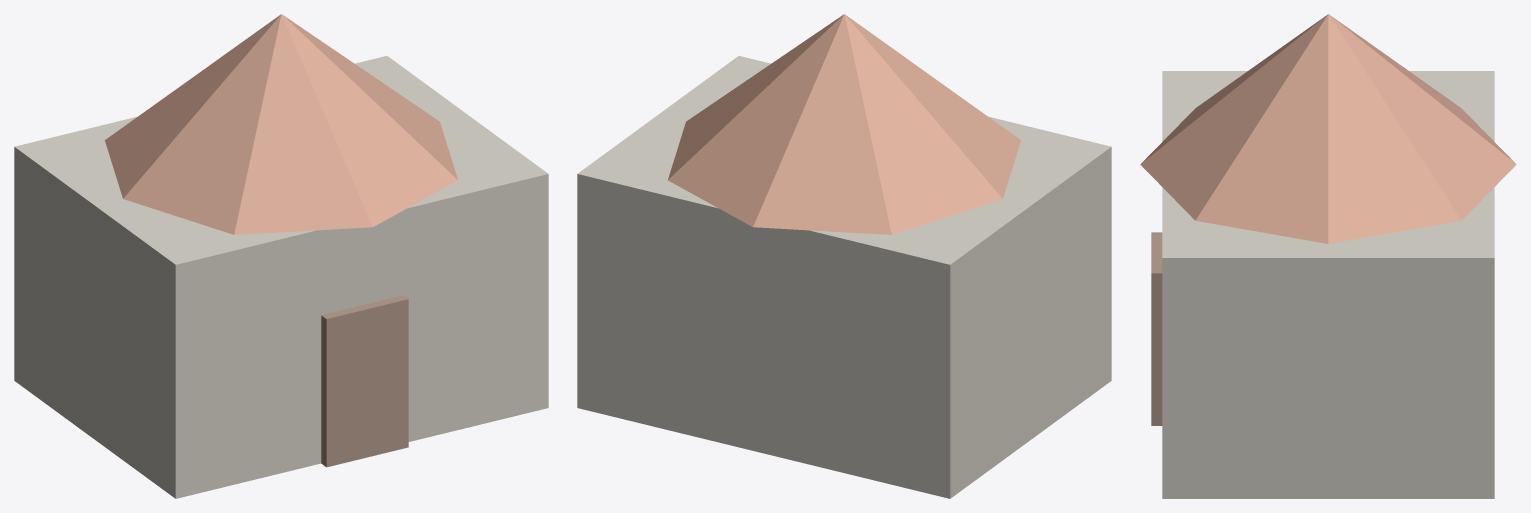
The model's file is cottage-small.glb.
3 renders of one model, left to right at view 1: azimuth 30°, elevation 25°; view 2: azimuth 150°, elevation 25°; view 3: azimuth 270°, elevation 25°, orthographic. The views are drawn at different scales.
Parts seen in each view (by area): view 1: cottage-small; view 2: cottage-small; view 3: cottage-small.
Boxes of the visible parts, box(x1,y1,x2,y2) form: cottage-small: box(14, 14, 548, 498); cottage-small: box(577, 14, 1111, 498); cottage-small: box(1140, 14, 1516, 498).
Bounding box in the file's own units: 4 × 3.9 × 3.4.
